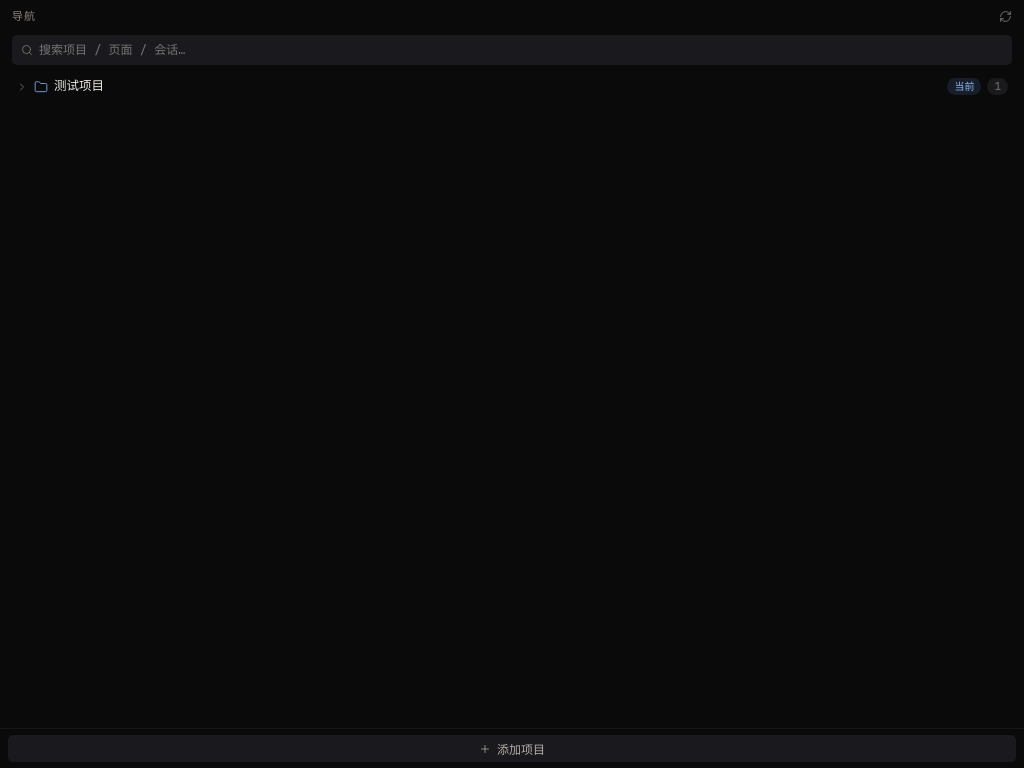
Test: 活跃会话行构成 › 右侧迷你用量条 32×3 + 百分比 11px fg-4（DIM_FG）
Click the element with test id "nav-row-project": (79, 86) [8,72,1016,100]
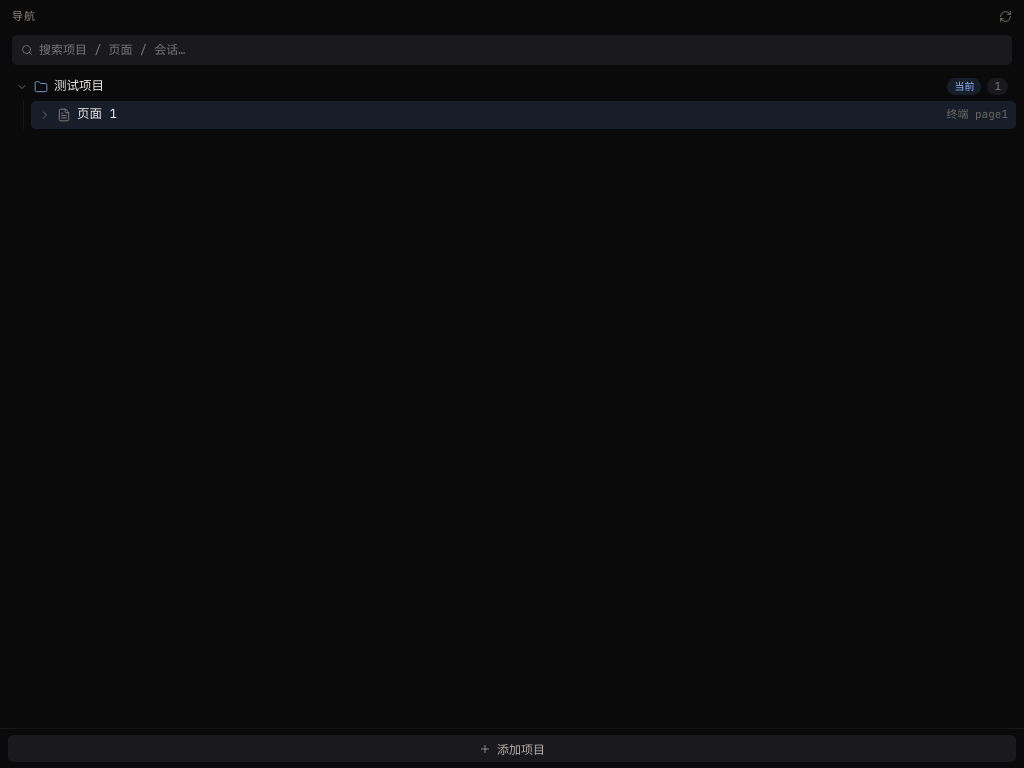
Click the element with test id "nav-row-page": (524, 114) [31,100,1016,128]
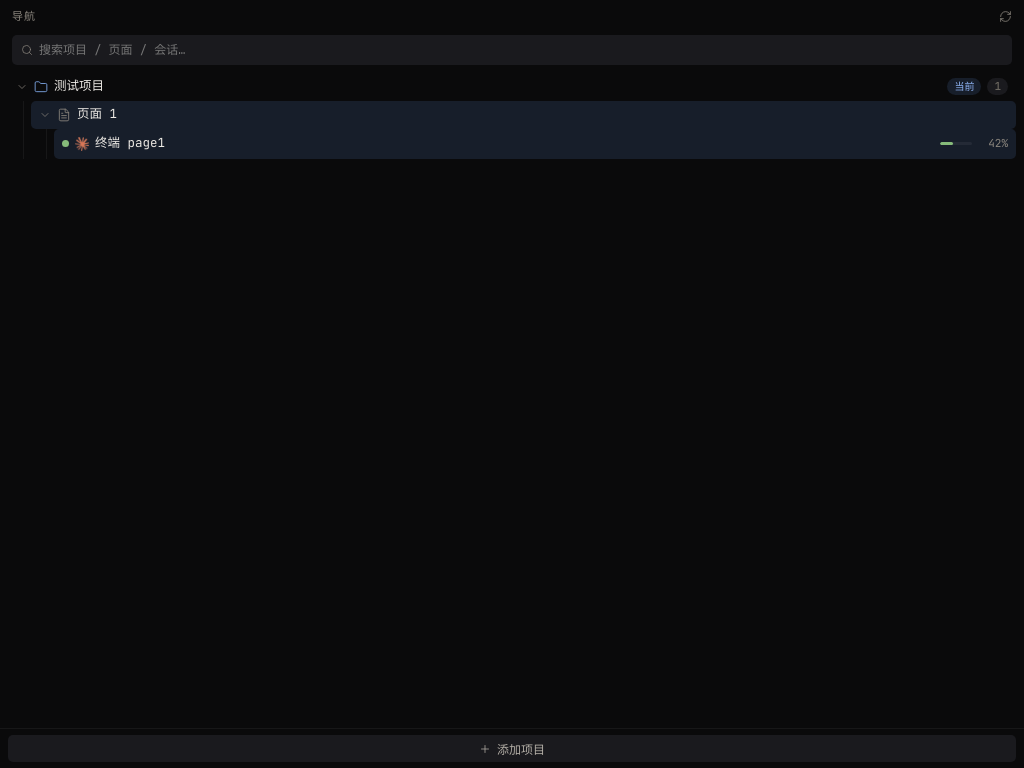
Check: the text "42%" is shown, box [988,136,1008,150]
